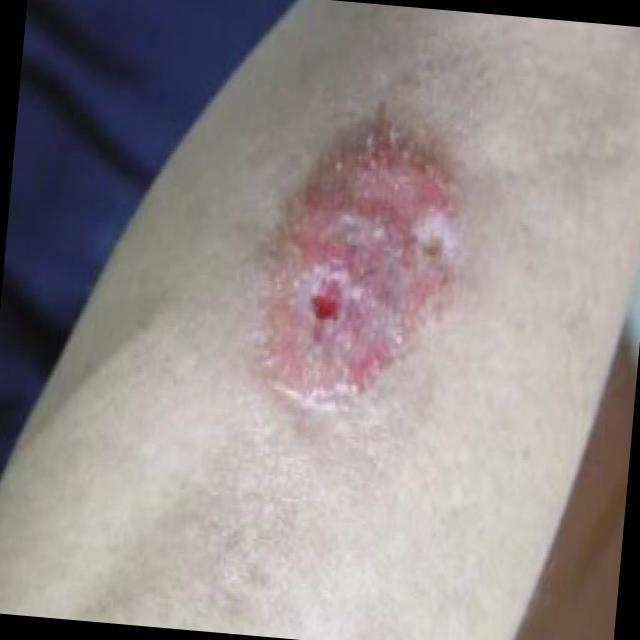Eczema: (252, 96, 465, 407)
